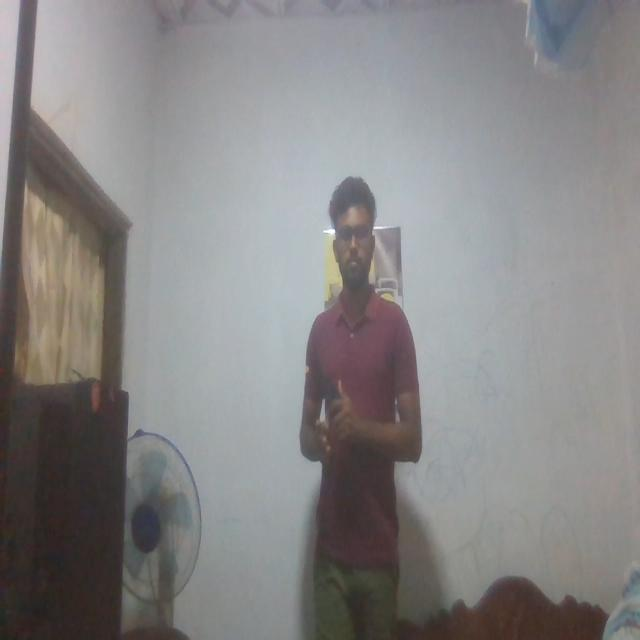Gun_Holder: (304, 358, 352, 434)
Person: (302, 169, 426, 640)
